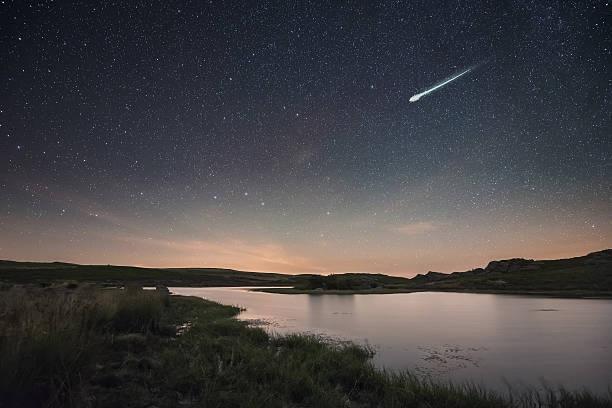meteorite: (398, 61, 484, 109)
